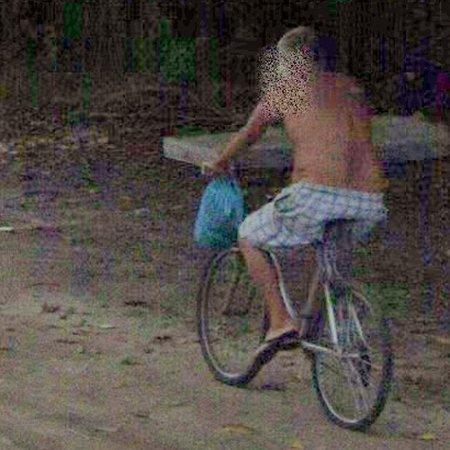bicycles: (200, 219, 393, 429)
